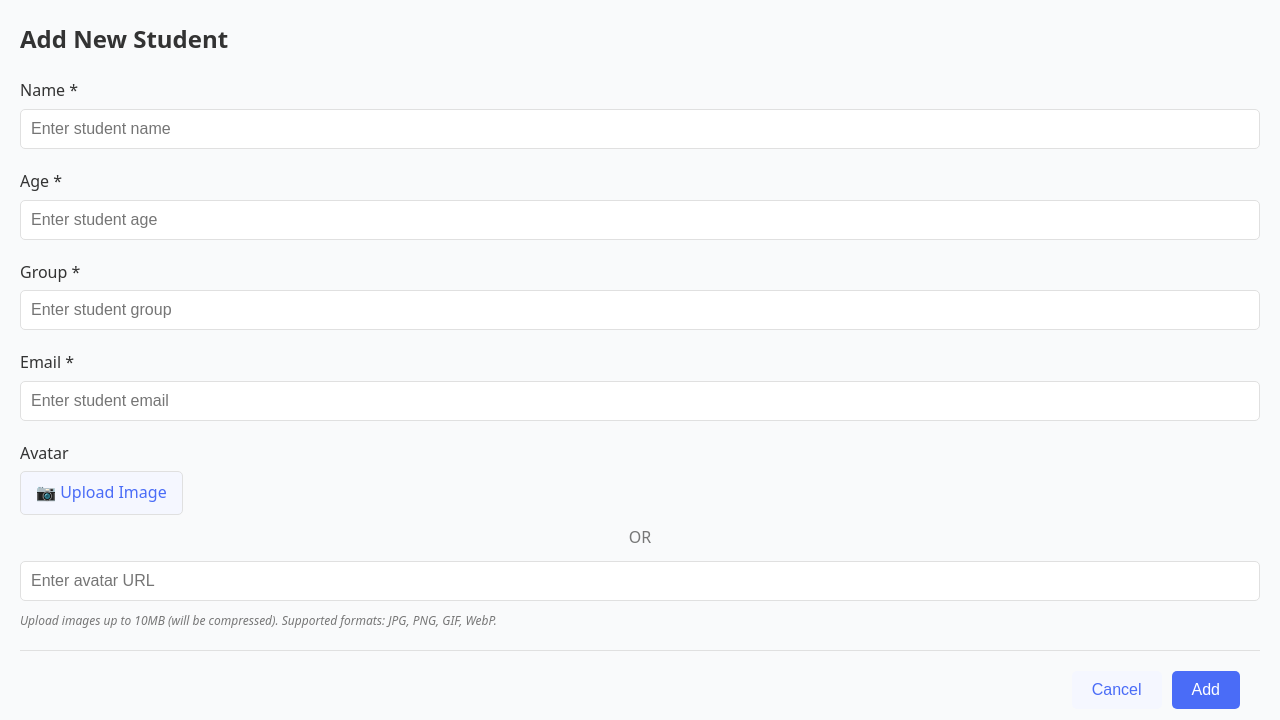
StudentForm Component › shows validation errors for required fields
Click the button "Add" at (1206, 690), box [1172, 671, 1240, 709]
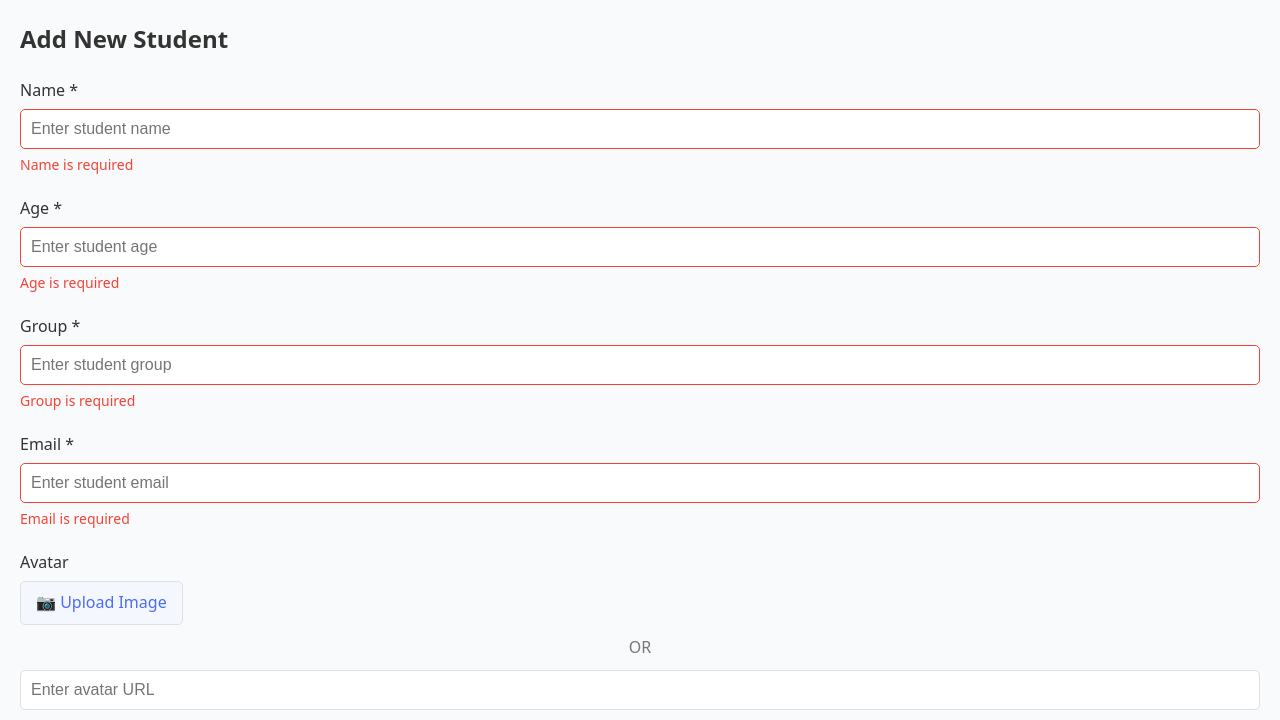
Result: the text "Name is required" is shown at [20, 155, 133, 174]
Result: the text "Age is required" is shown at [20, 273, 119, 292]
Result: the text "Group is required" is shown at [20, 391, 135, 410]
